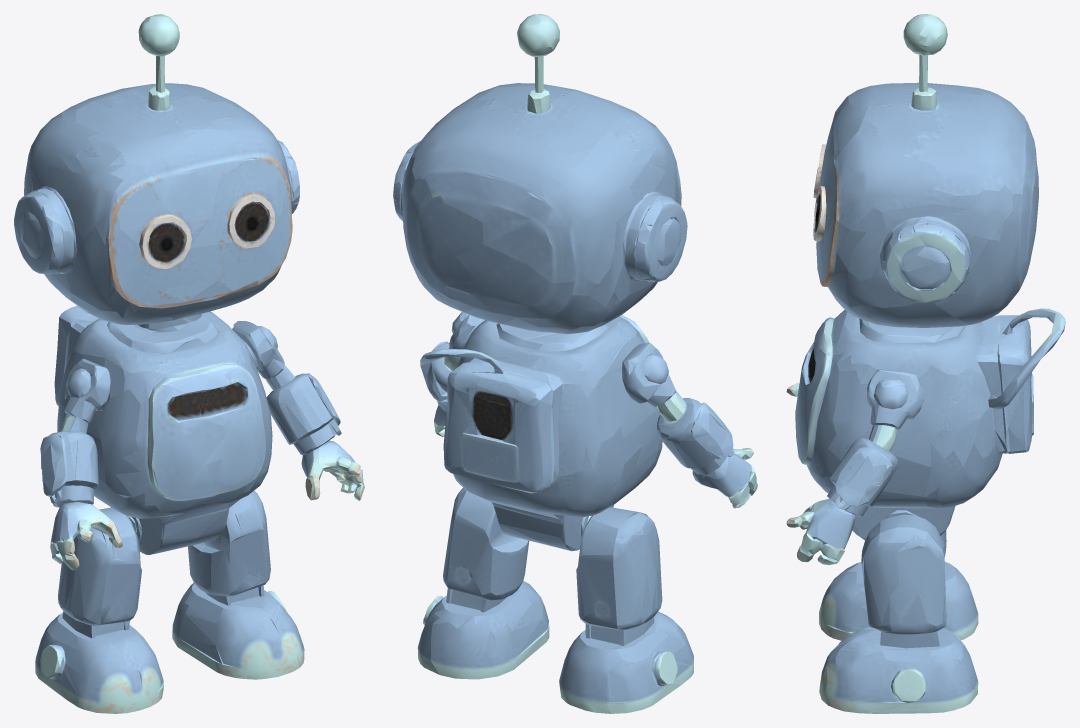
Rendered from robot.83e84463.glb.
3 views of the same model, side by side, from view 1: azimuth 30°, elevation 25°; view 2: azimuth 150°, elevation 25°; view 3: azimuth 270°, elevation 25° (orthographic). The views are drawn at different scales.
Parts seen in each view (by area): view 1: output_unwrapped; view 2: output_unwrapped; view 3: output_unwrapped.
Part boxes in pixels (x1,y1,x2,y2): output_unwrapped: [14, 14, 364, 713]; output_unwrapped: [393, 14, 757, 713]; output_unwrapped: [786, 14, 1065, 713].
Size of the model in its own units: 0.9464 by 1.9 by 0.7466.
1 material, 1 textured.
